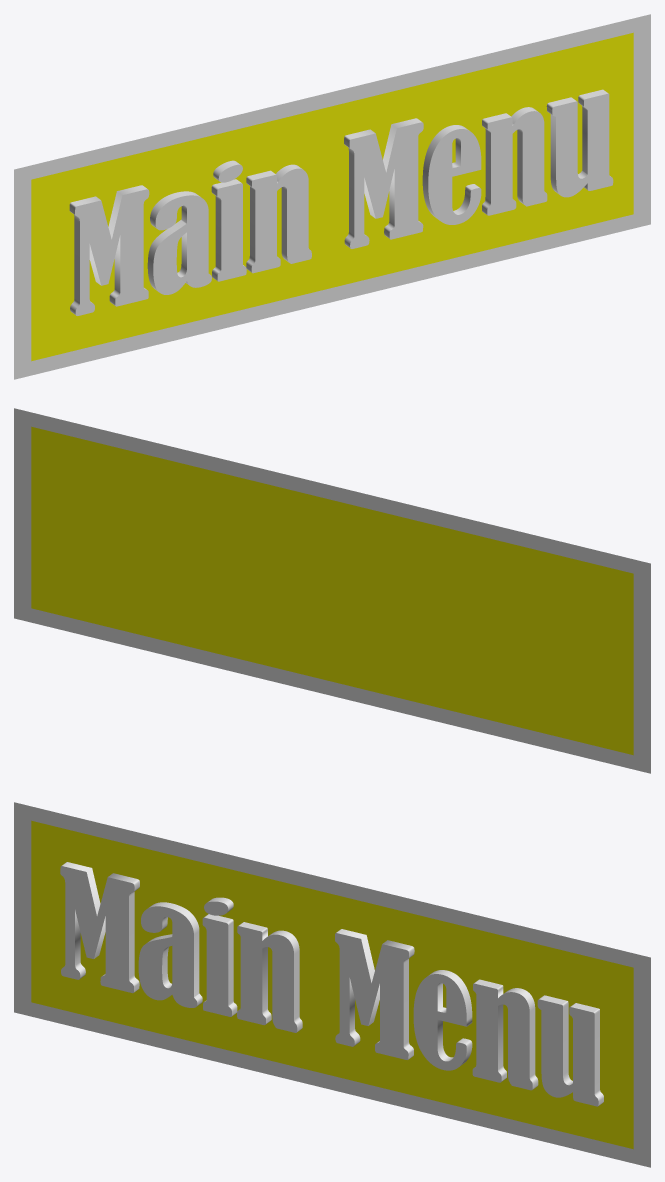
The model's file is Main Menu.fbx.
3 views of the same model, one above another, from view 1: azimuth 30°, elevation 25°; view 2: azimuth 150°, elevation 25°; view 3: azimuth 330°, elevation 25° (orthographic).
Parts seen in each view (by area): view 1: Plane.001, Main Menu; view 2: Plane.001; view 3: Plane.001, Main Menu.
Boxes of the visible parts, x1,y1,x2,y2 form: Plane.001: (14, 14, 650, 379); Main Menu: (69, 89, 613, 315); Plane.001: (14, 408, 650, 773); Plane.001: (14, 802, 650, 1167); Main Menu: (60, 862, 603, 1106).
Bounding box in the file's own units: 401 × 126 × 8.
